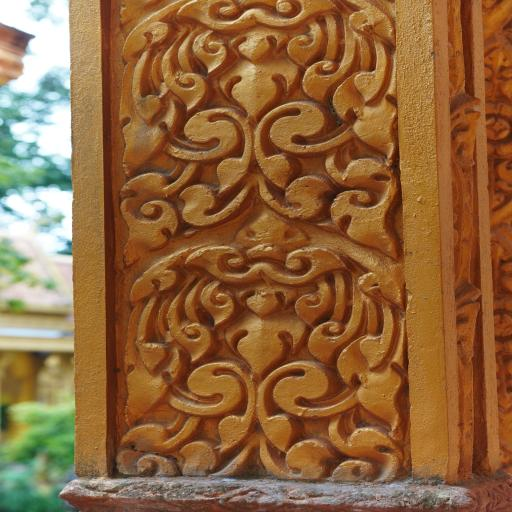la: (109, 209, 416, 483), (105, 0, 405, 261)
